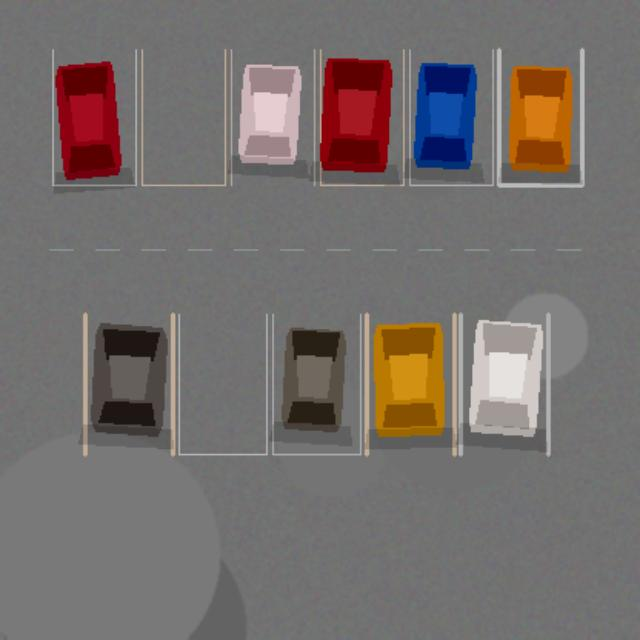space-empty: (178, 314, 266, 454), (142, 49, 225, 185)
space-occupied: (272, 314, 360, 454), (366, 314, 454, 454), (460, 314, 548, 454), (85, 314, 172, 454), (498, 49, 582, 185), (52, 49, 135, 185), (231, 49, 314, 185), (320, 49, 403, 185), (409, 49, 492, 185)
